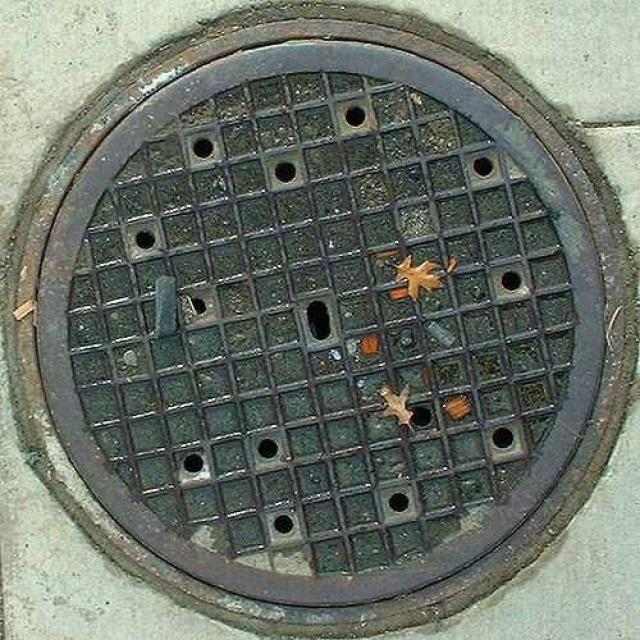manhole: (10, 5, 634, 633)
